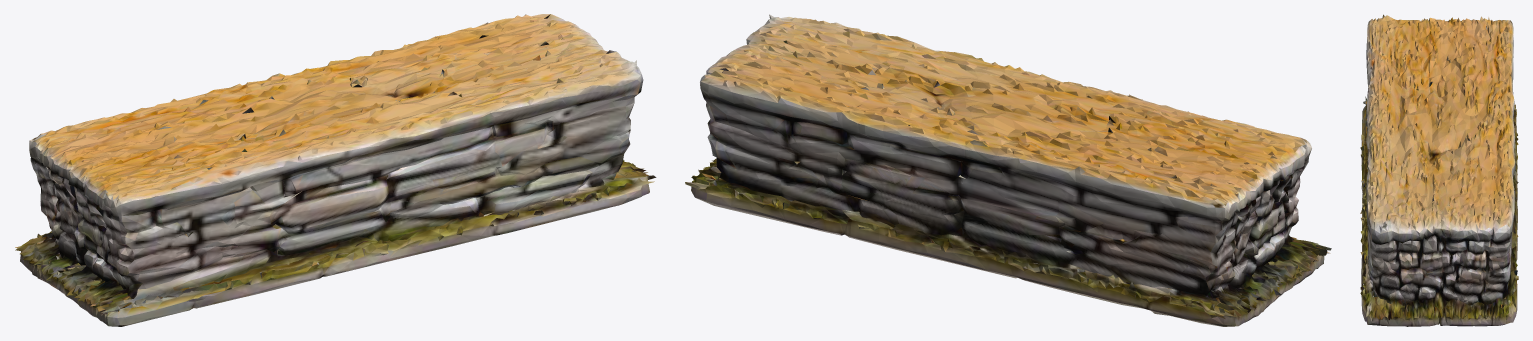
File: wt-village-stone-wall.glb
3 views of the same model, side by side, from view 1: azimuth 30°, elevation 25°; view 2: azimuth 150°, elevation 25°; view 3: azimuth 270°, elevation 25° (orthographic). The views are drawn at different scales.
Visible parts, largest first — view 1: tmpyz6l39pd.ply; view 2: tmpyz6l39pd.ply; view 3: tmpyz6l39pd.ply.
Part boxes in pixels (<box>): tmpyz6l39pd.ply: <box>15,14,656,326</box>; tmpyz6l39pd.ply: <box>685,14,1331,326</box>; tmpyz6l39pd.ply: <box>1360,14,1518,326</box>.
Bounding box in the file's own units: 3.81 × 0.852 × 1.15.
Materials: 1 (1 with a texture image).
